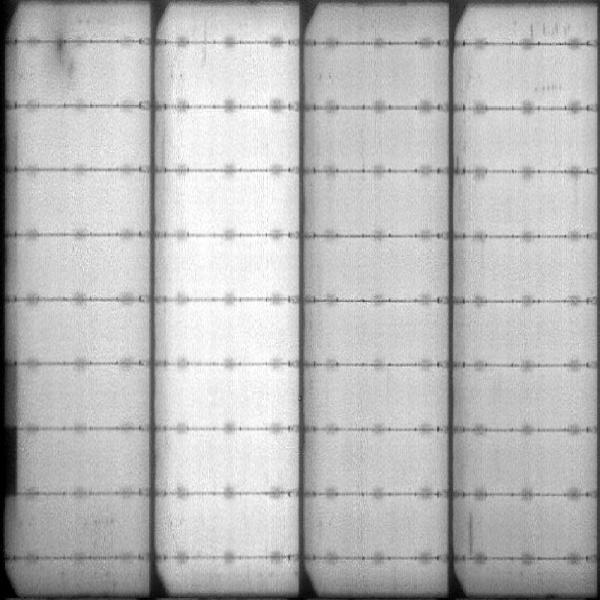black_border: (1, 427, 20, 499), (4, 366, 22, 427)
scratch: (463, 508, 477, 553)
